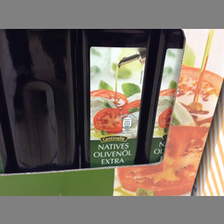oil: (78, 29, 152, 166)
